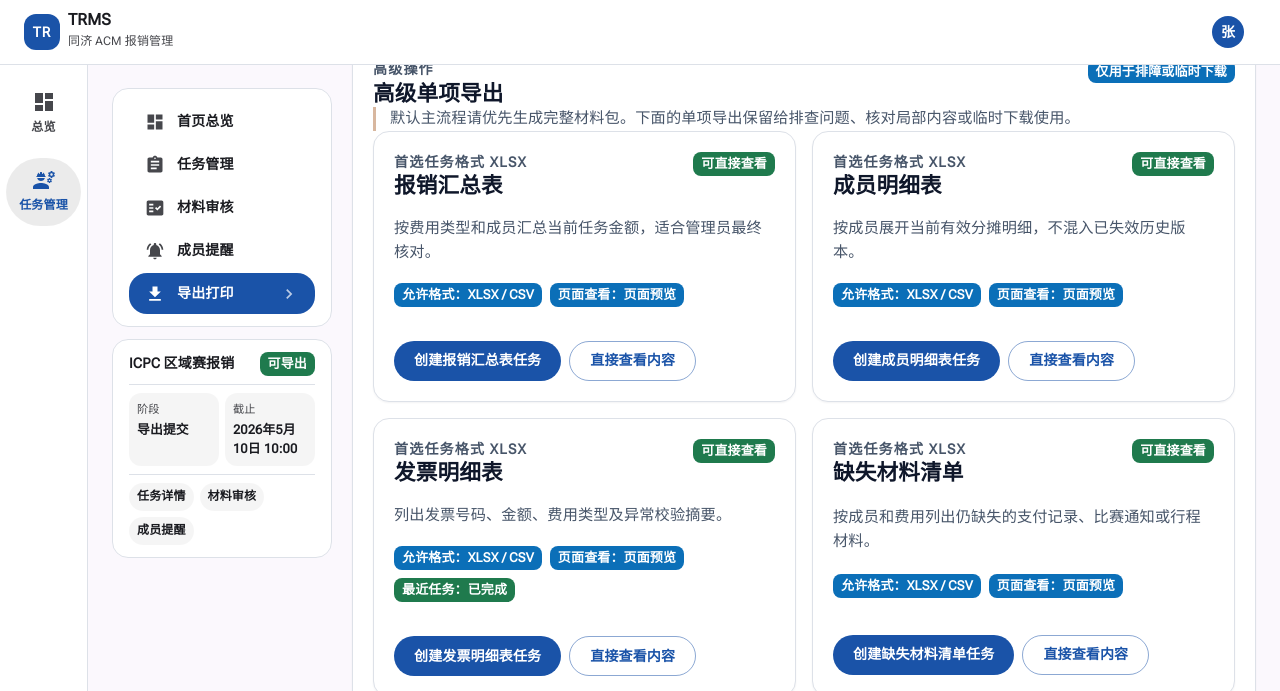
admin export tasks page › creates export jobs, shows failed history and previews current output
The image size is (1280, 691).
(page scrolled)
Expected: the element "报销汇总表" is shown, [373, 131, 796, 402]
Click the button "创建报销汇总表任务" at (478, 360), box [394, 340, 561, 380]
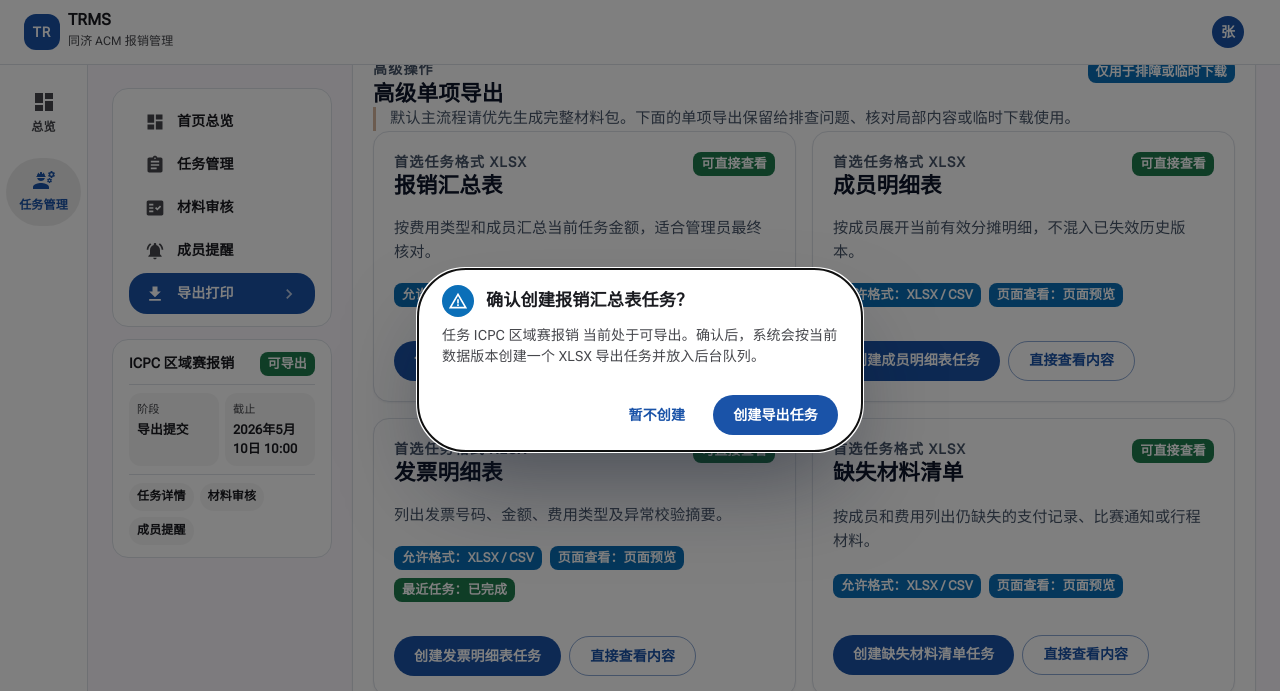
Result: the text "任务 ICPC 区域赛报销 当前处于可导出。确认后，系统会按当前数据版本创建一个 XLSX 导出任务并放入后台队列。" is shown at [442, 325, 838, 367]
Click the button "暂不创建" at (657, 415), box [609, 395, 705, 435]
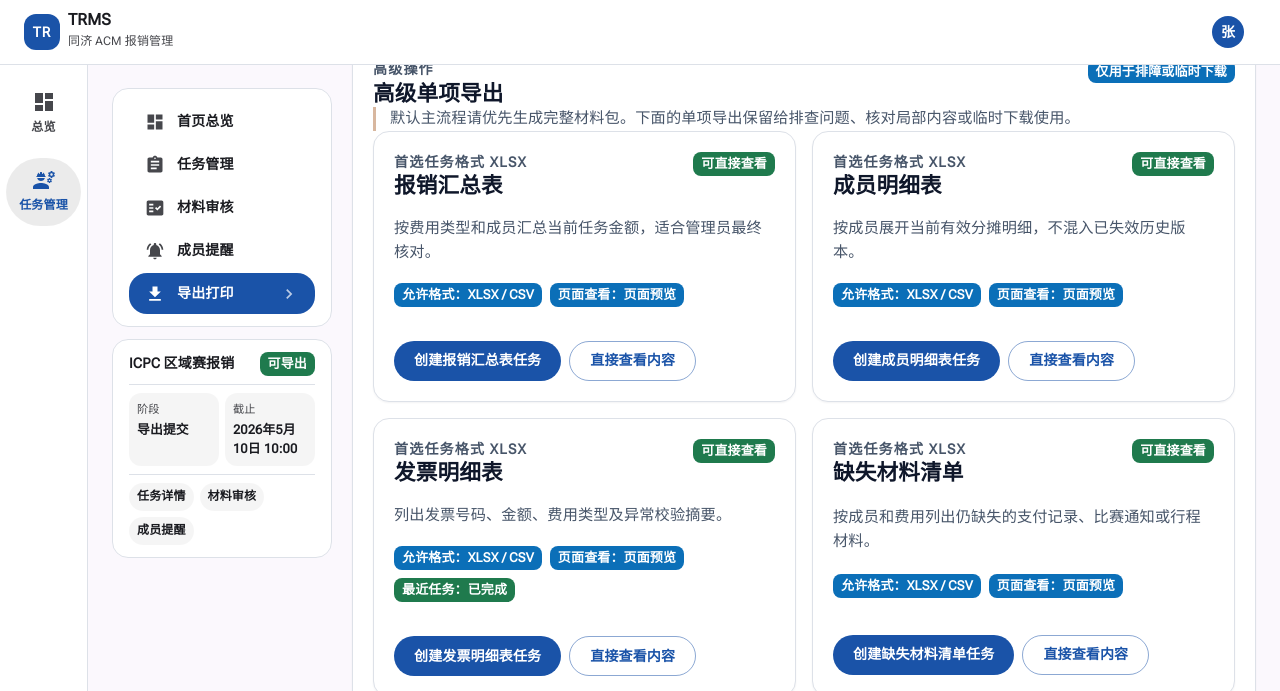
Expected: the text "报销汇总表已加入导出队列，当前状态：待生成。" is not shown
Result: the dialog is gone
Click the button "创建报销汇总表任务" at (478, 360), box [394, 340, 561, 380]
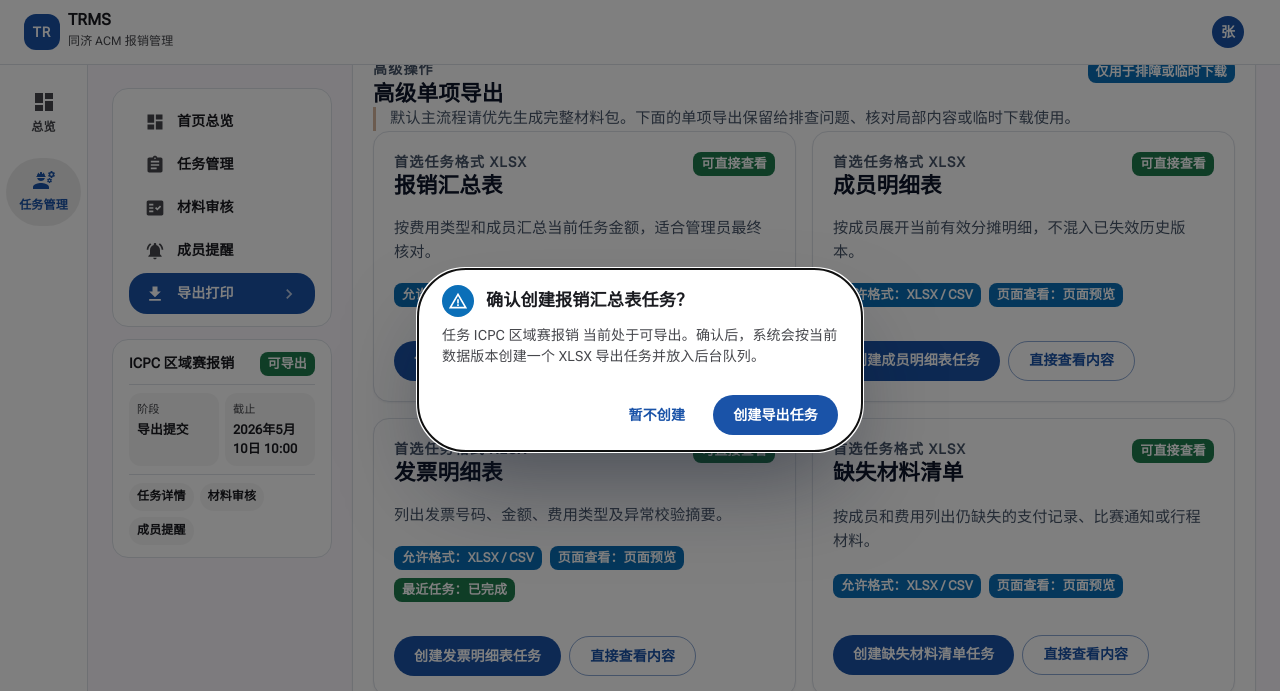
Click the button "创建导出任务" at (776, 415), box [713, 395, 838, 435]
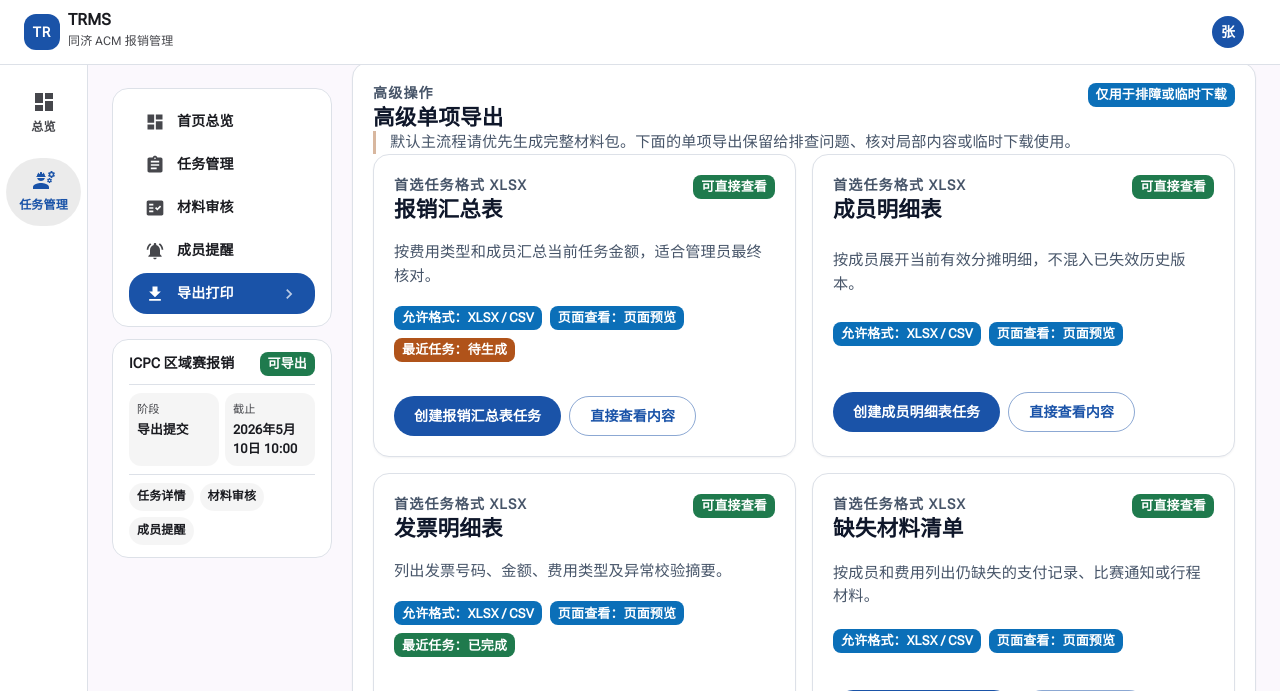
Expected: the element "报销汇总表" is shown, [373, 154, 796, 457]
Result: the dialog is gone
Click the button "直接查看内容" below "按费用类型和成员汇总当前任务金额，适合管理员最终核对。" at (633, 416), box [569, 396, 696, 436]
(page scrolled)
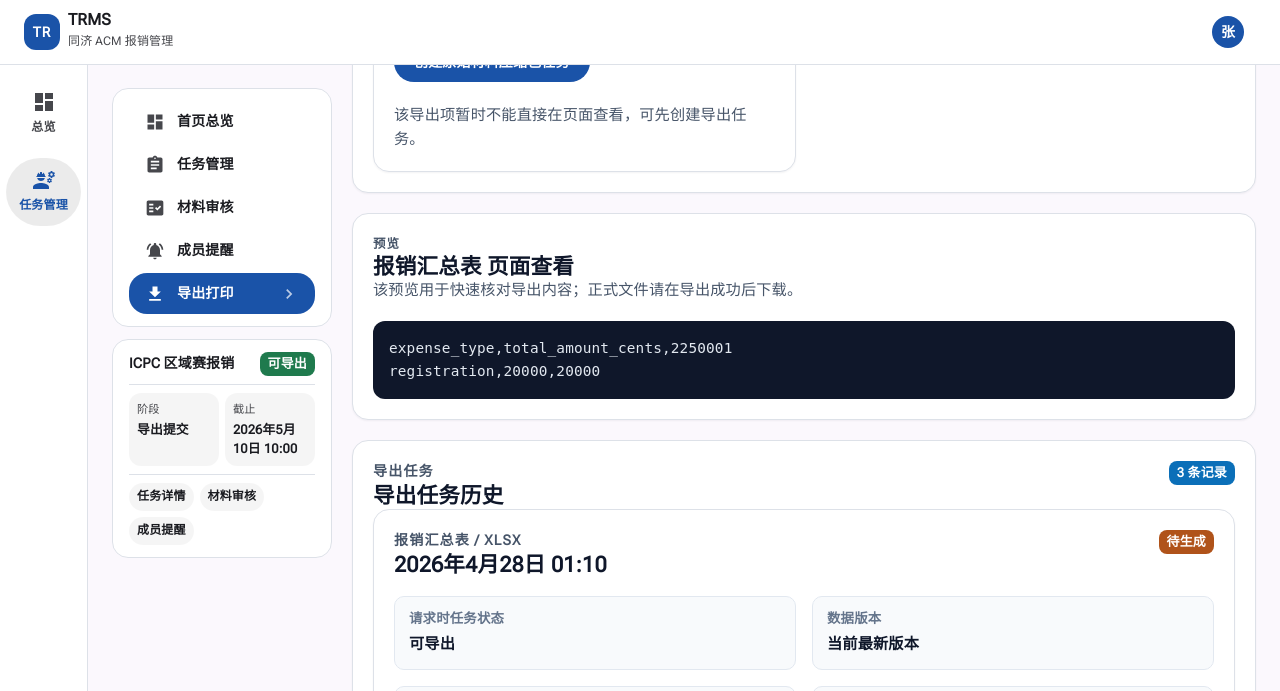
Result: the heading "报销汇总表 页面查看" is shown at [373, 254, 574, 278]
Result: the text "expense_type,total_amount_cents,2250001" is shown at [389, 340, 732, 379]
